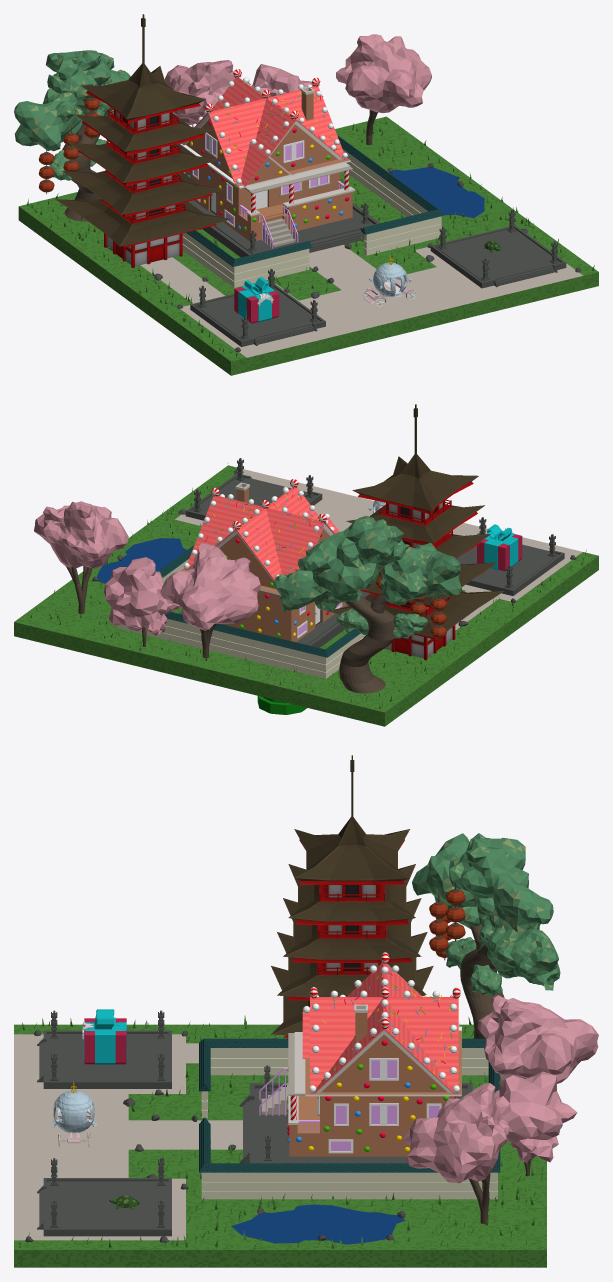
3 renders of one model, top to bottom at view 1: azimuth 30°, elevation 25°; view 2: azimuth 150°, elevation 25°; view 3: azimuth 270°, elevation 25°, orthographic. The views are drawn at different scales.
Parts seen in each view (by area): view 1: Cube.005, Cube.1203, OBJRANDOM_GIANT_PRESENT, VEHICLES_FANTASY_CARRIAGE; view 2: Cube.005, Cube.1203, OBJRANDOM_GIANT_PRESENT, UNDERGROUND_PIPES; view 3: Cube.005, Cube.1203, OBJRANDOM_GIANT_PRESENT, VEHICLES_FANTASY_CARRIAGE.
Boxes of the visible parts, bbox=[...] form: Cube.005: bbox=[14, 14, 598, 375]; Cube.1203: bbox=[179, 69, 355, 248]; OBJRANDOM_GIANT_PRESENT: bbox=[234, 277, 279, 323]; VEHICLES_FANTASY_CARRIAGE: bbox=[363, 254, 416, 307]; Cube.005: bbox=[14, 404, 598, 726]; Cube.1203: bbox=[181, 479, 347, 641]; OBJRANDOM_GIANT_PRESENT: bbox=[477, 524, 522, 570]; UNDERGROUND_PIPES: bbox=[257, 696, 306, 714]; Cube.005: bbox=[14, 755, 598, 1267]; Cube.1203: bbox=[259, 952, 461, 1156]; OBJRANDOM_GIANT_PRESENT: bbox=[82, 1009, 127, 1064]; VEHICLES_FANTASY_CARRIAGE: bbox=[51, 1081, 96, 1147].
Bounding box in the file's own units: 4528 × 3273 × 4389.
45 materials, 6 textured.
